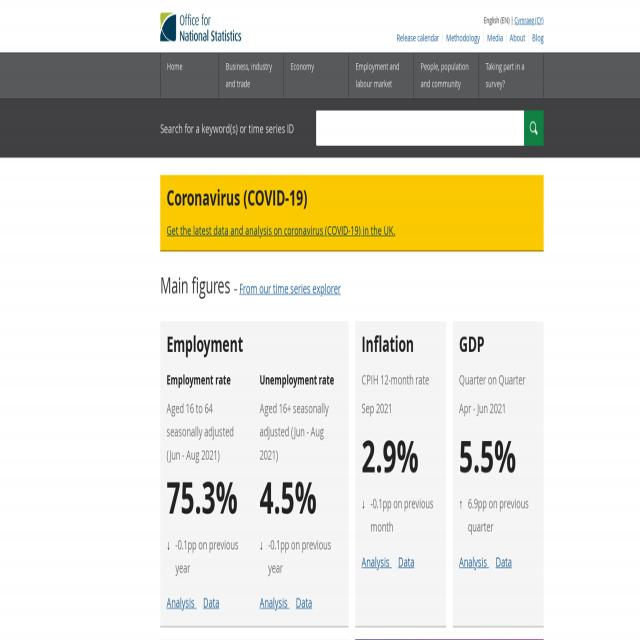button: (160, 12, 242, 41), (524, 111, 544, 146)
field: (316, 111, 525, 146)
